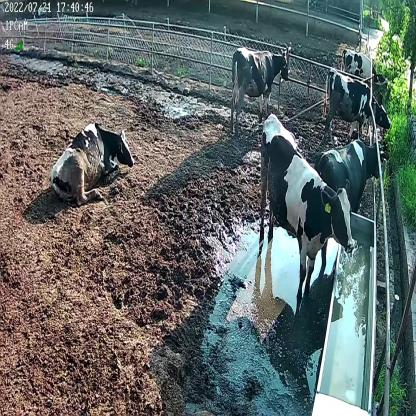cow: (258, 115, 355, 303), (48, 116, 136, 204), (315, 139, 384, 213), (325, 69, 393, 144), (231, 45, 292, 128), (340, 47, 386, 88)
